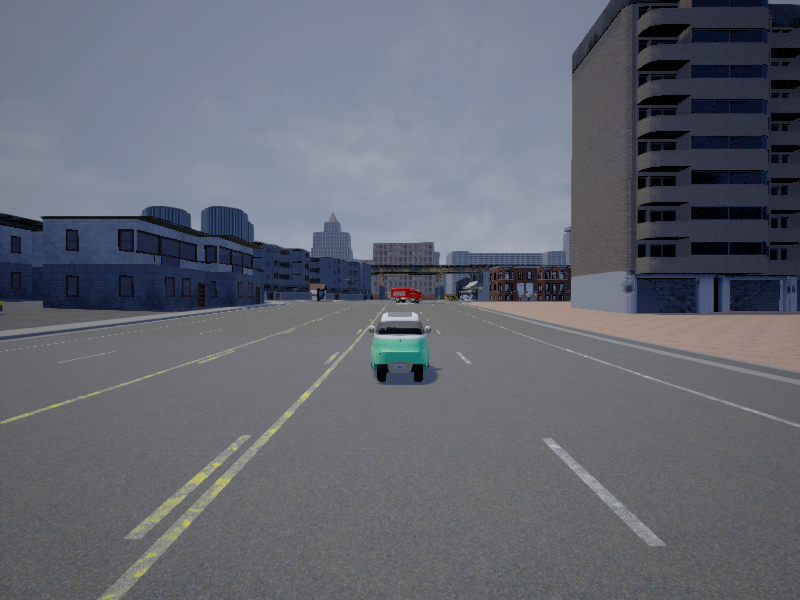Benign: (369, 311, 431, 384), (391, 289, 423, 305)
